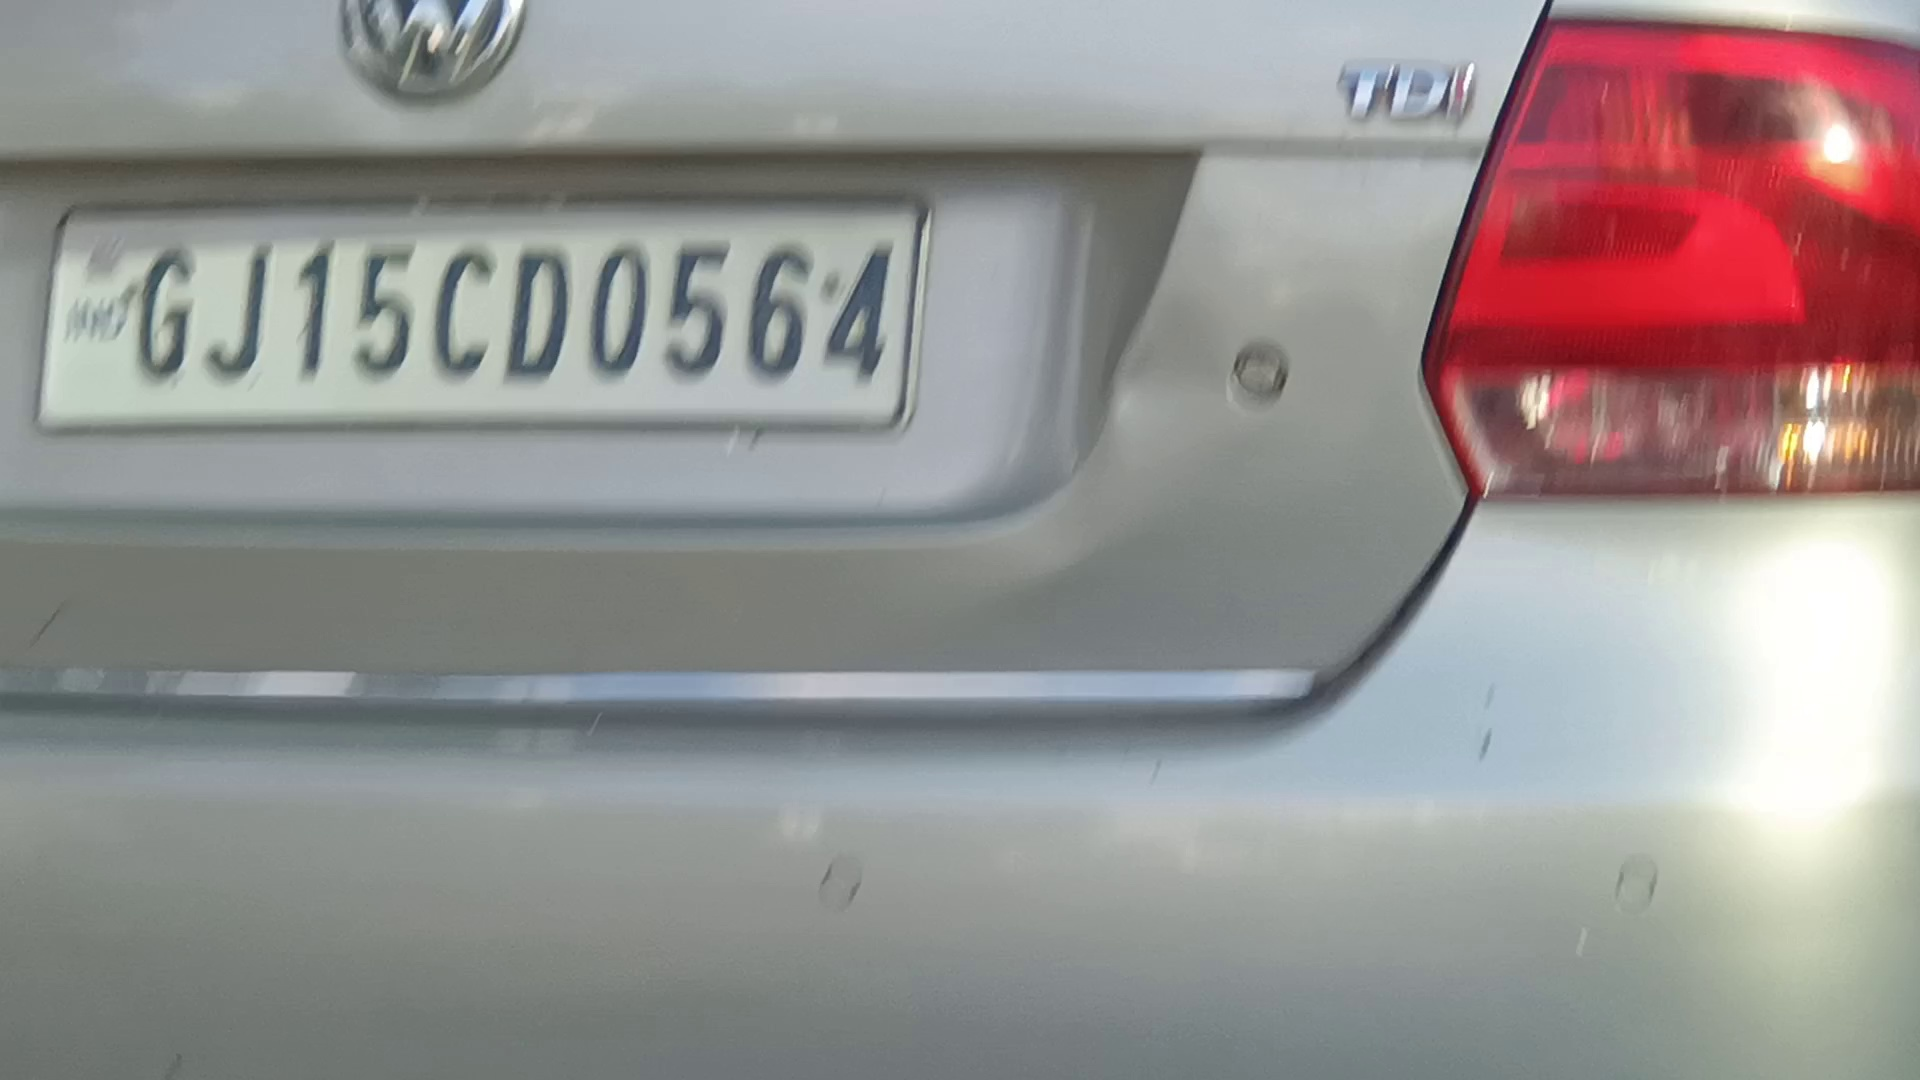GJ15D0564: (37, 197, 934, 427)
